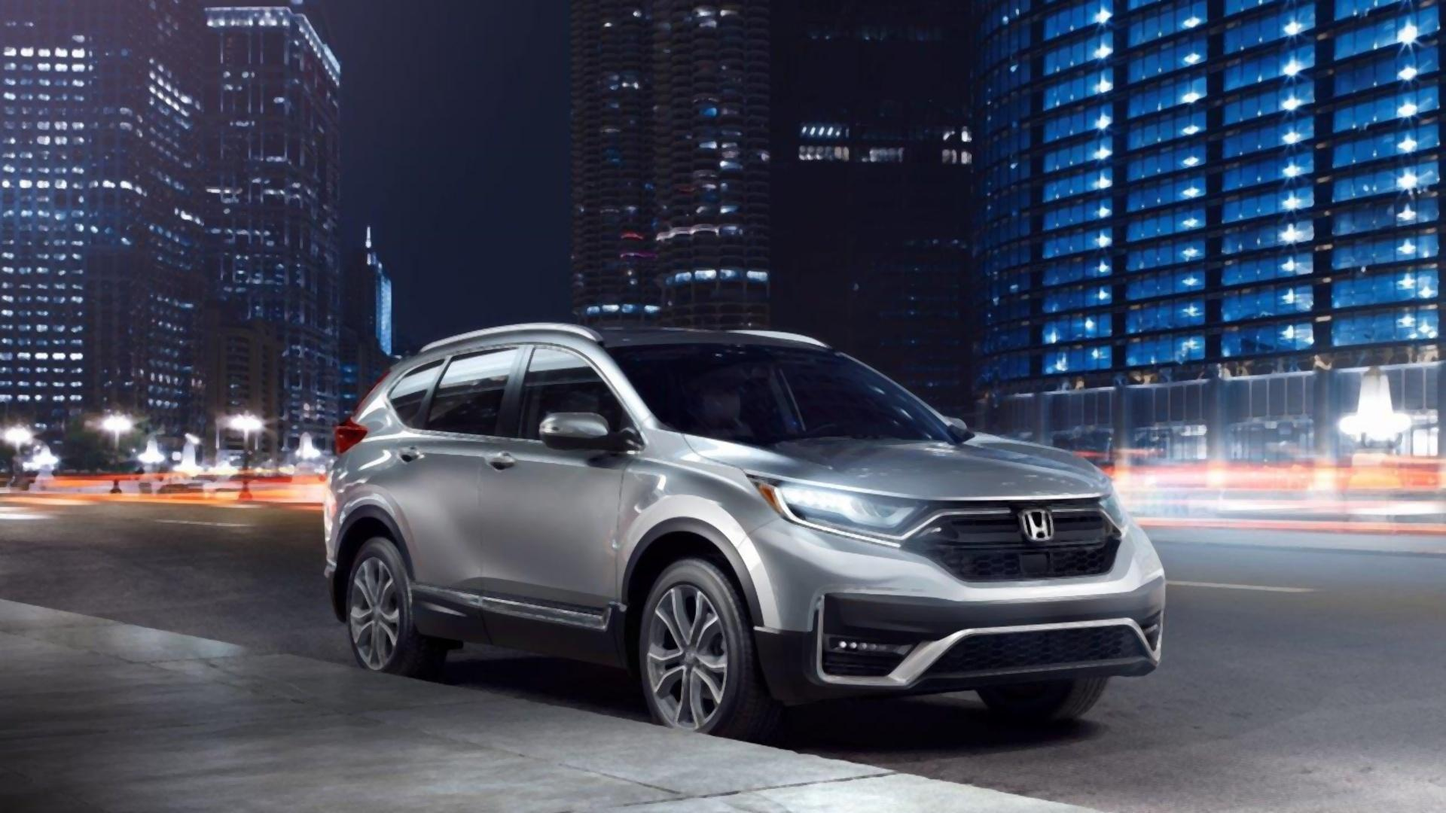Car hood: (668, 423, 1122, 509)
Driver-s door - -F-R-: (462, 335, 645, 638)
Fender - -F-R-: (609, 419, 784, 612)
Fender - -R-R-: (324, 402, 416, 534)
Front bumper: (723, 491, 1180, 694)
Headlight - -L-: (1085, 489, 1141, 542)
Headlight - -R-: (739, 472, 945, 549)
Passenger-s door - -R-R-: (388, 331, 529, 629)
Rear bumper: (313, 493, 350, 621)
Rear light - -R-: (329, 418, 370, 456)
Side bumper - -R-: (398, 575, 645, 680)
Side mirror - -R-: (540, 413, 619, 460)
